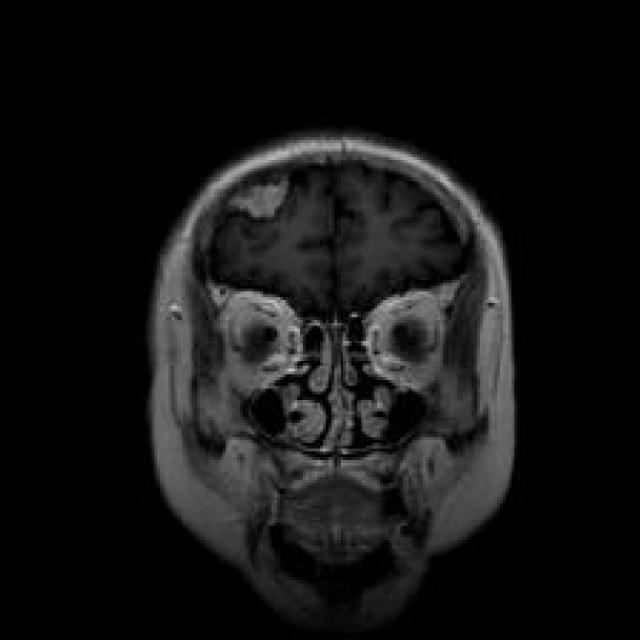meningioma_tumor: (222, 172, 299, 228)
